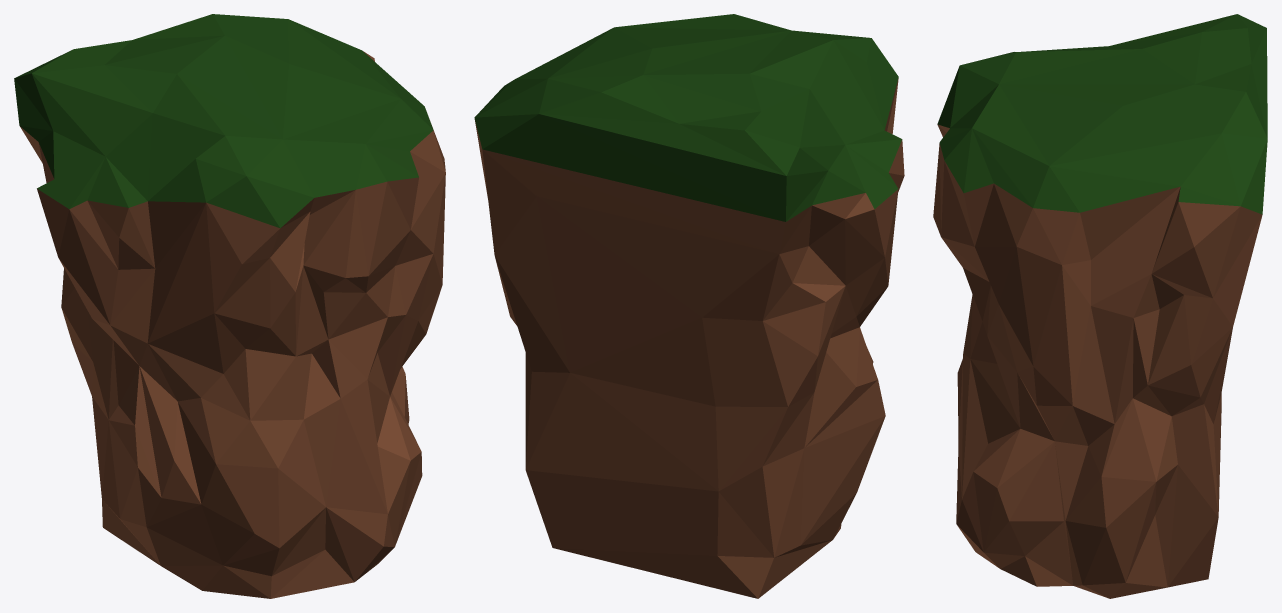
Rendered from SM_cliff_grass_01.fbx.
The picture shows the model from 3 angles, left to right: view 1: azimuth 30°, elevation 25°; view 2: azimuth 150°, elevation 25°; view 3: azimuth 270°, elevation 25°; orthographic projection. The views are drawn at different scales.
Parts seen in each view (by area): view 1: cliff_grass_01; view 2: cliff_grass_01; view 3: cliff_grass_01.
Boxes of the visible parts, <box> form: cliff_grass_01: <box>14,14,445,598</box>; cliff_grass_01: <box>474,14,904,598</box>; cliff_grass_01: <box>933,14,1267,598</box>.
Bounding box in the file's own units: 1472 × 1902 × 1221.
